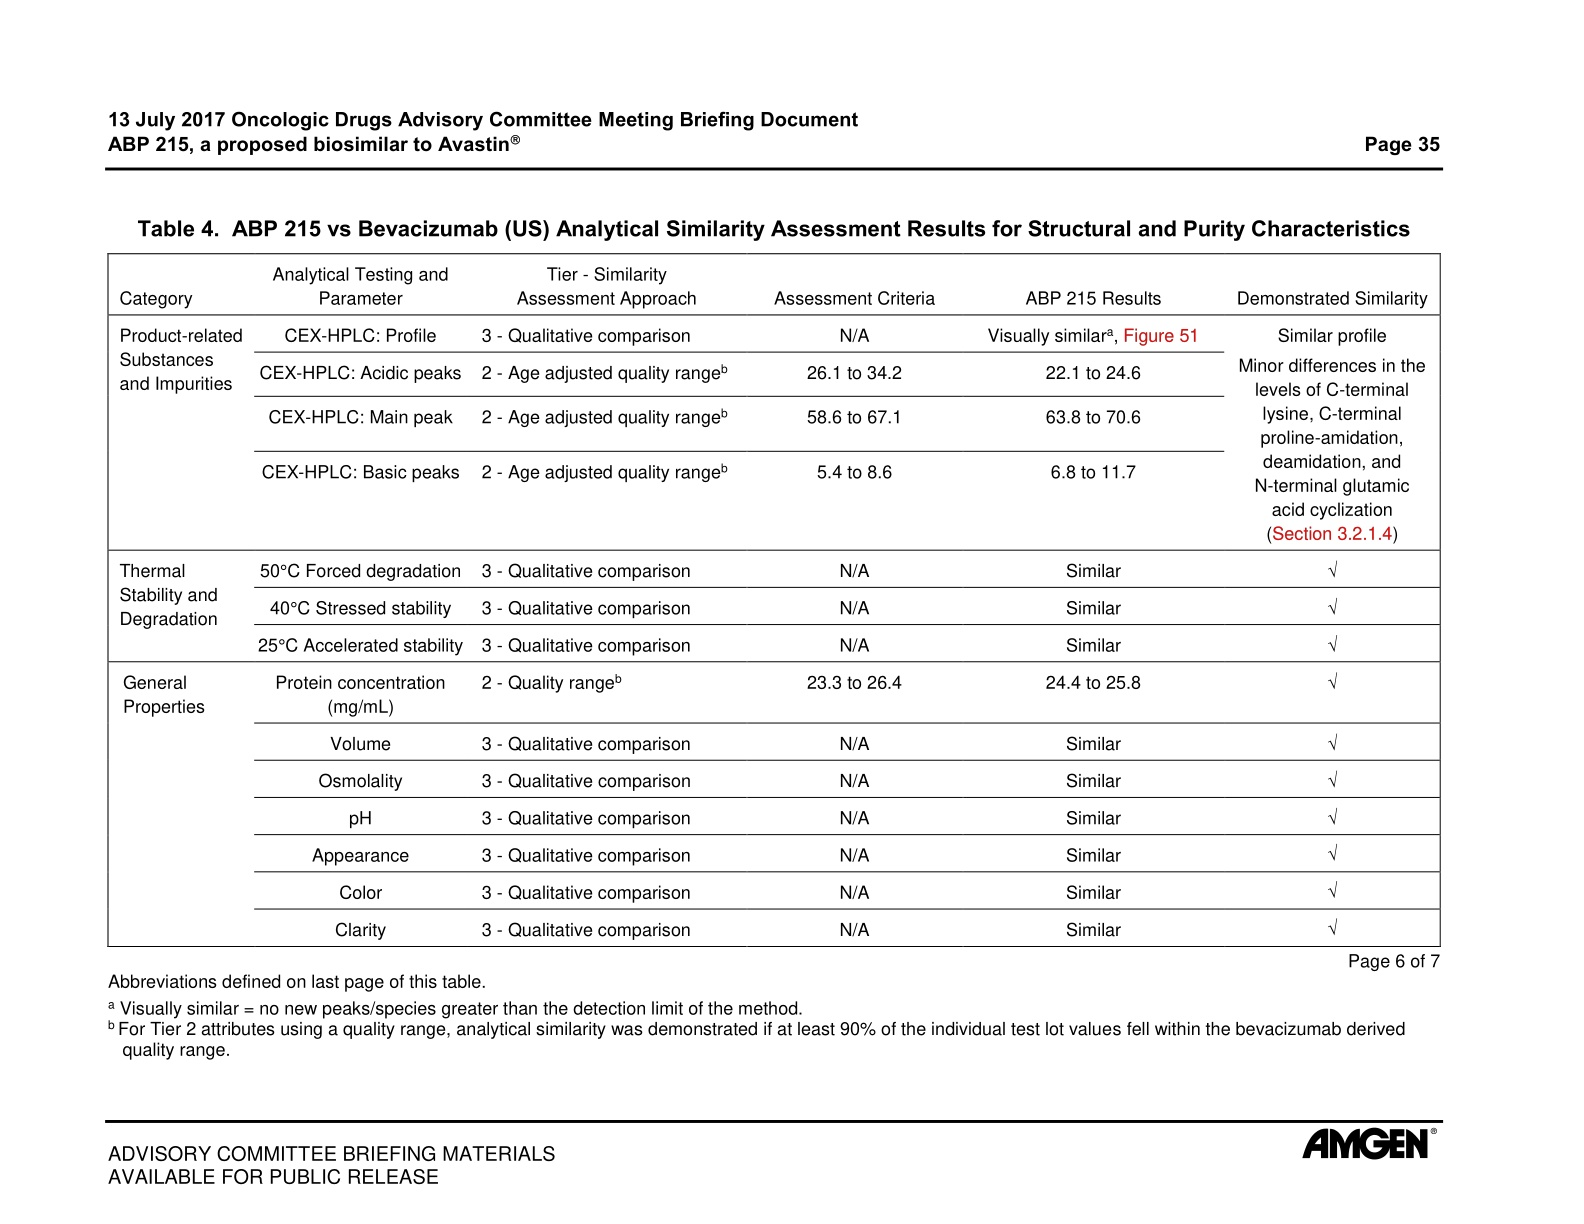partial_lined_merged_cells: (105, 251, 1443, 948)
